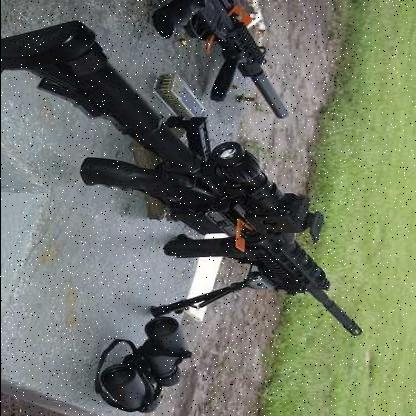rifle: (14, 12, 373, 348)
